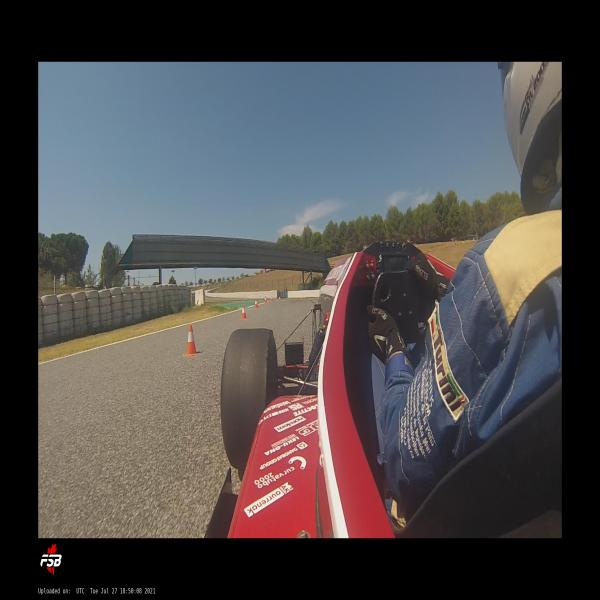orange_cone: (184, 324, 198, 355), (240, 305, 247, 320), (254, 299, 258, 308), (264, 296, 267, 304), (278, 296, 280, 301), (270, 296, 272, 301)
